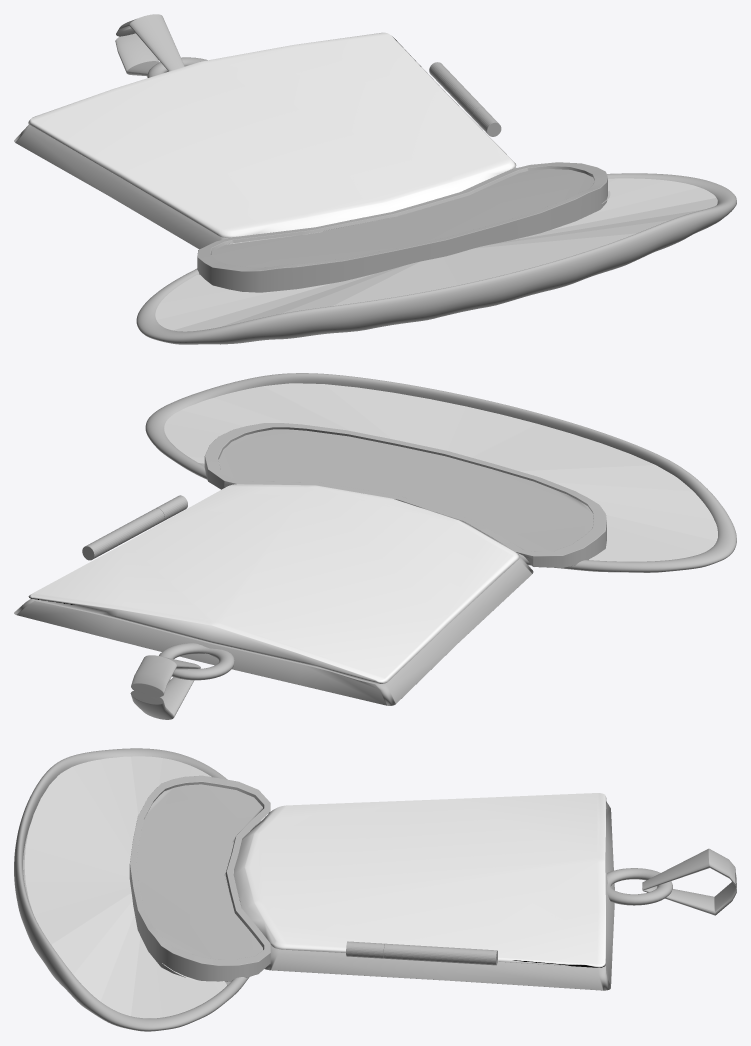
The model's file is dijewebhpta.glb.
The picture shows the model from 3 angles, top to bottom: view 1: azimuth 30°, elevation 25°; view 2: azimuth 150°, elevation 25°; view 3: azimuth 270°, elevation 25°; orthographic projection. The views are drawn at different scales.
Parts seen in each view (by area): view 1: Cube.001, Cylinder, Cylinder.001, Cylinder.002, Cube, Cone; view 2: Cube.001, Cylinder.001, Cylinder, Cube, Cylinder.002, Cone, Torus, Cylinder.006; view 3: Cube.001, Cylinder.001, Cylinder, Cube, Cylinder.002, Cone, Torus, Cylinder.006, Cylinder.005, Cylinder.004, Cylinder.003.
Boxes of the visible parts, <box> form: Cube.001: <box>28,32,516,238</box>; Cylinder: <box>197,162,607,292</box>; Cylinder.001: <box>155,178,717,331</box>; Cylinder.002: <box>136,173,736,344</box>; Cube: <box>14,124,515,249</box>; Cone: <box>115,14,184,76</box>; Cube.001: <box>28,484,519,683</box>; Cylinder.001: <box>164,383,717,561</box>; Cylinder: <box>204,423,606,567</box>; Cube: <box>14,557,533,705</box>; Cylinder.002: <box>145,373,736,572</box>; Cone: <box>130,655,200,719</box>; Torus: <box>159,643,234,680</box>; Cylinder.006: <box>82,533,117,560</box>; Cube.001: <box>233,793,606,967</box>; Cylinder.001: <box>24,756,226,1018</box>; Cylinder: <box>129,775,270,981</box>; Cube: <box>265,802,614,990</box>; Cylinder.002: <box>14,748,260,1031</box>; Cone: <box>642,848,736,915</box>; Torus: <box>607,868,672,905</box>; Cylinder.006: <box>458,948,497,965</box>; Cylinder.005: <box>346,941,384,958</box>; Cylinder.004: <box>383,943,422,960</box>; Cylinder.003: <box>421,946,459,963</box>.
Bounding box in the file's own units: 4.37 × 0.4305 × 4.77.
3 materials, 1 textured.
